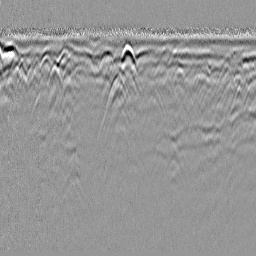cavity: (119, 38, 139, 74)
